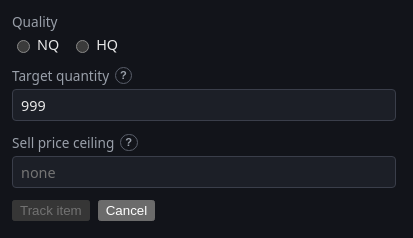
Test: TrackedItemSettingsForm › submitting › should only allow submitting once NQ or HQ has been chosen
Expected: the button "Track item" is disabled, [12, 200, 90, 221]
Step 1. Click the radio button labelled "HQ" → (83, 46), box [76, 40, 89, 52]
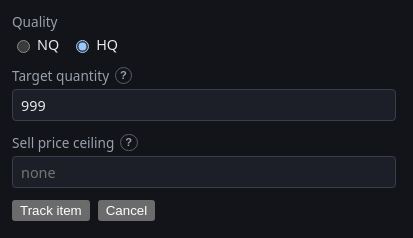
Result: the button "Track item" is enabled at [12, 200, 90, 221]
